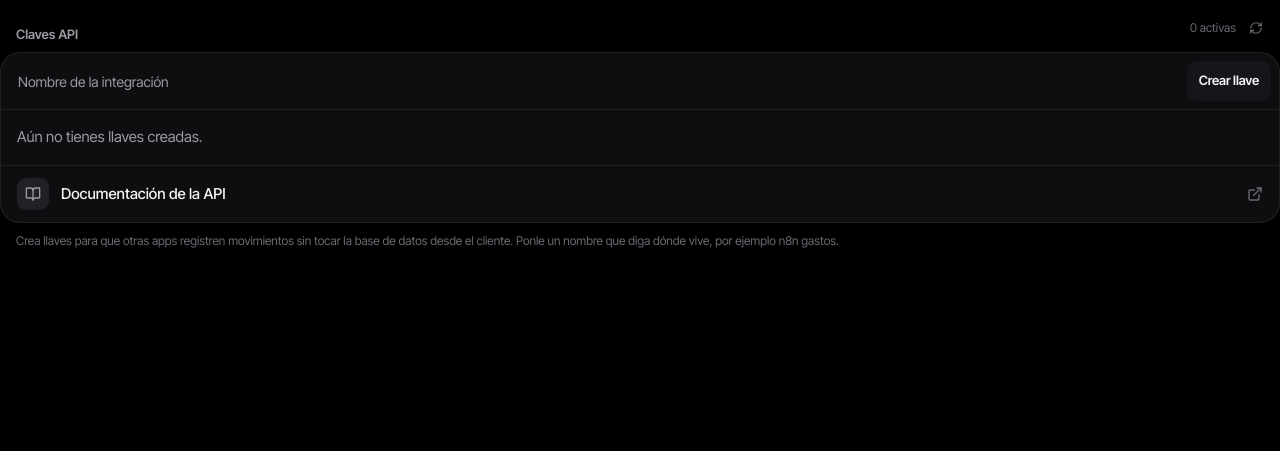
ApiKeyManager › creates a new api key and shows plaintext once
Type "n8n" into the field named "Nombre de la nueva llave". click: (598, 81)
box: x1=17 y1=61 x2=1179 y2=101
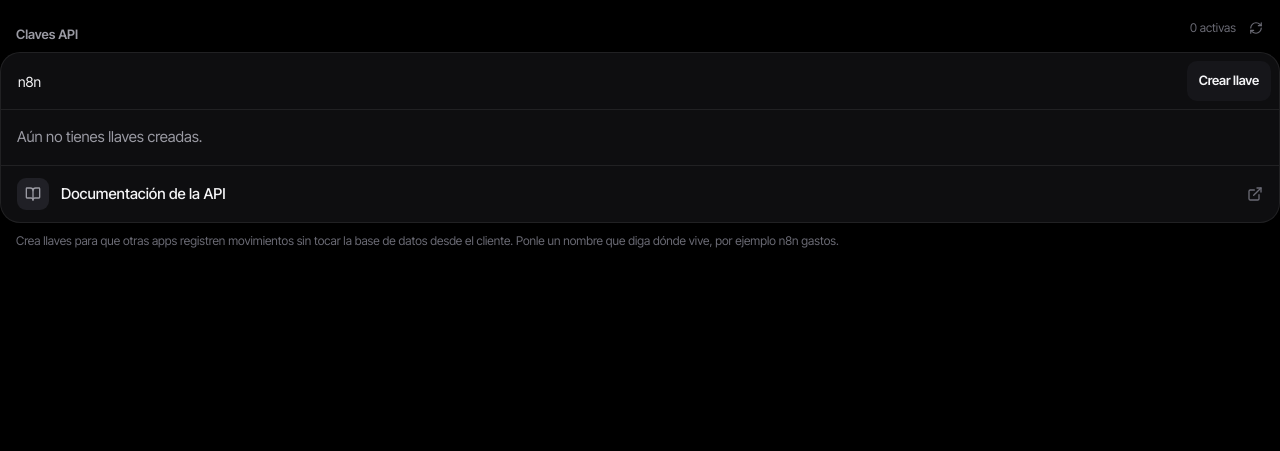
Click the button "Crear llave". click: (1229, 81)
box: x1=1187 y1=61 x2=1271 y2=101
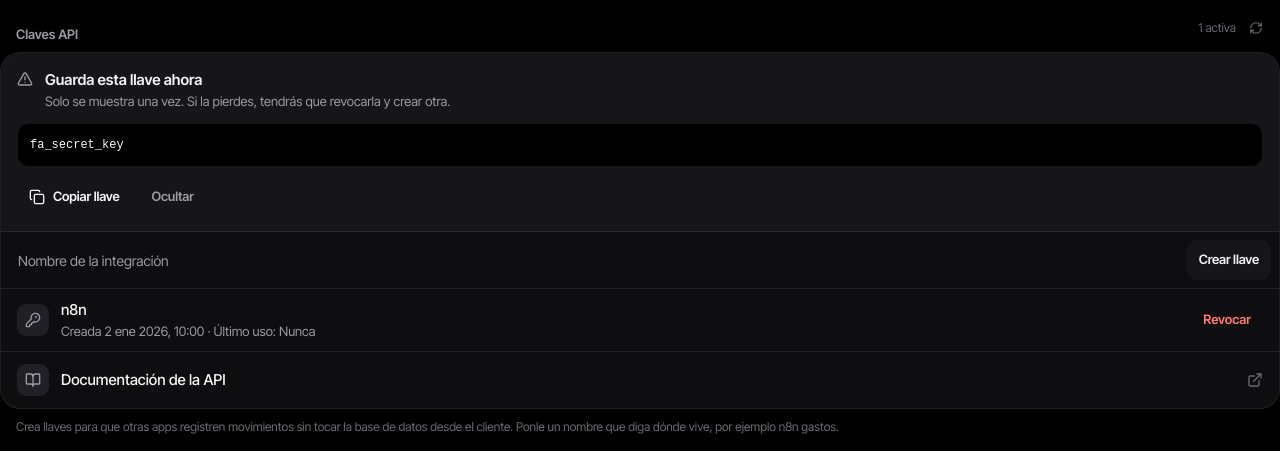
Now the text "fa_secret_key" is shown, box x1=17 y1=123 x2=1263 y2=167
